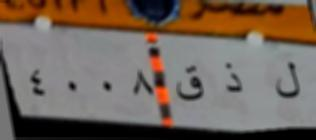0: (99, 74, 117, 105), (64, 76, 83, 103)
4: (27, 67, 51, 106)
8: (130, 66, 155, 108)
laam: (273, 58, 302, 109)
qaaf: (169, 59, 205, 110)
zaal: (221, 60, 244, 102)
